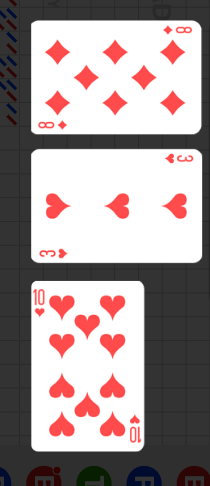10H: (32, 287, 47, 320), (127, 412, 141, 444)
8D: (37, 119, 69, 131)
